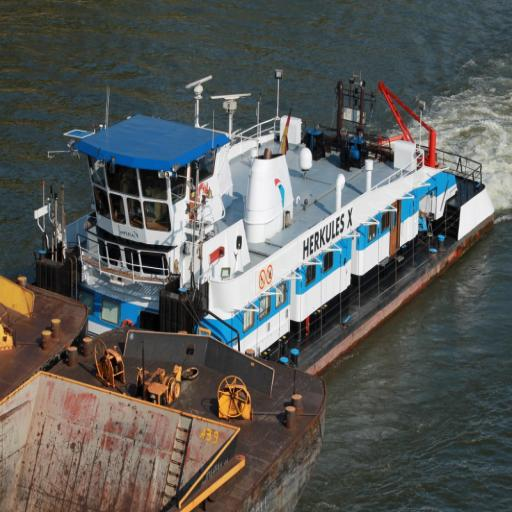tugboat: (31, 65, 499, 401)
